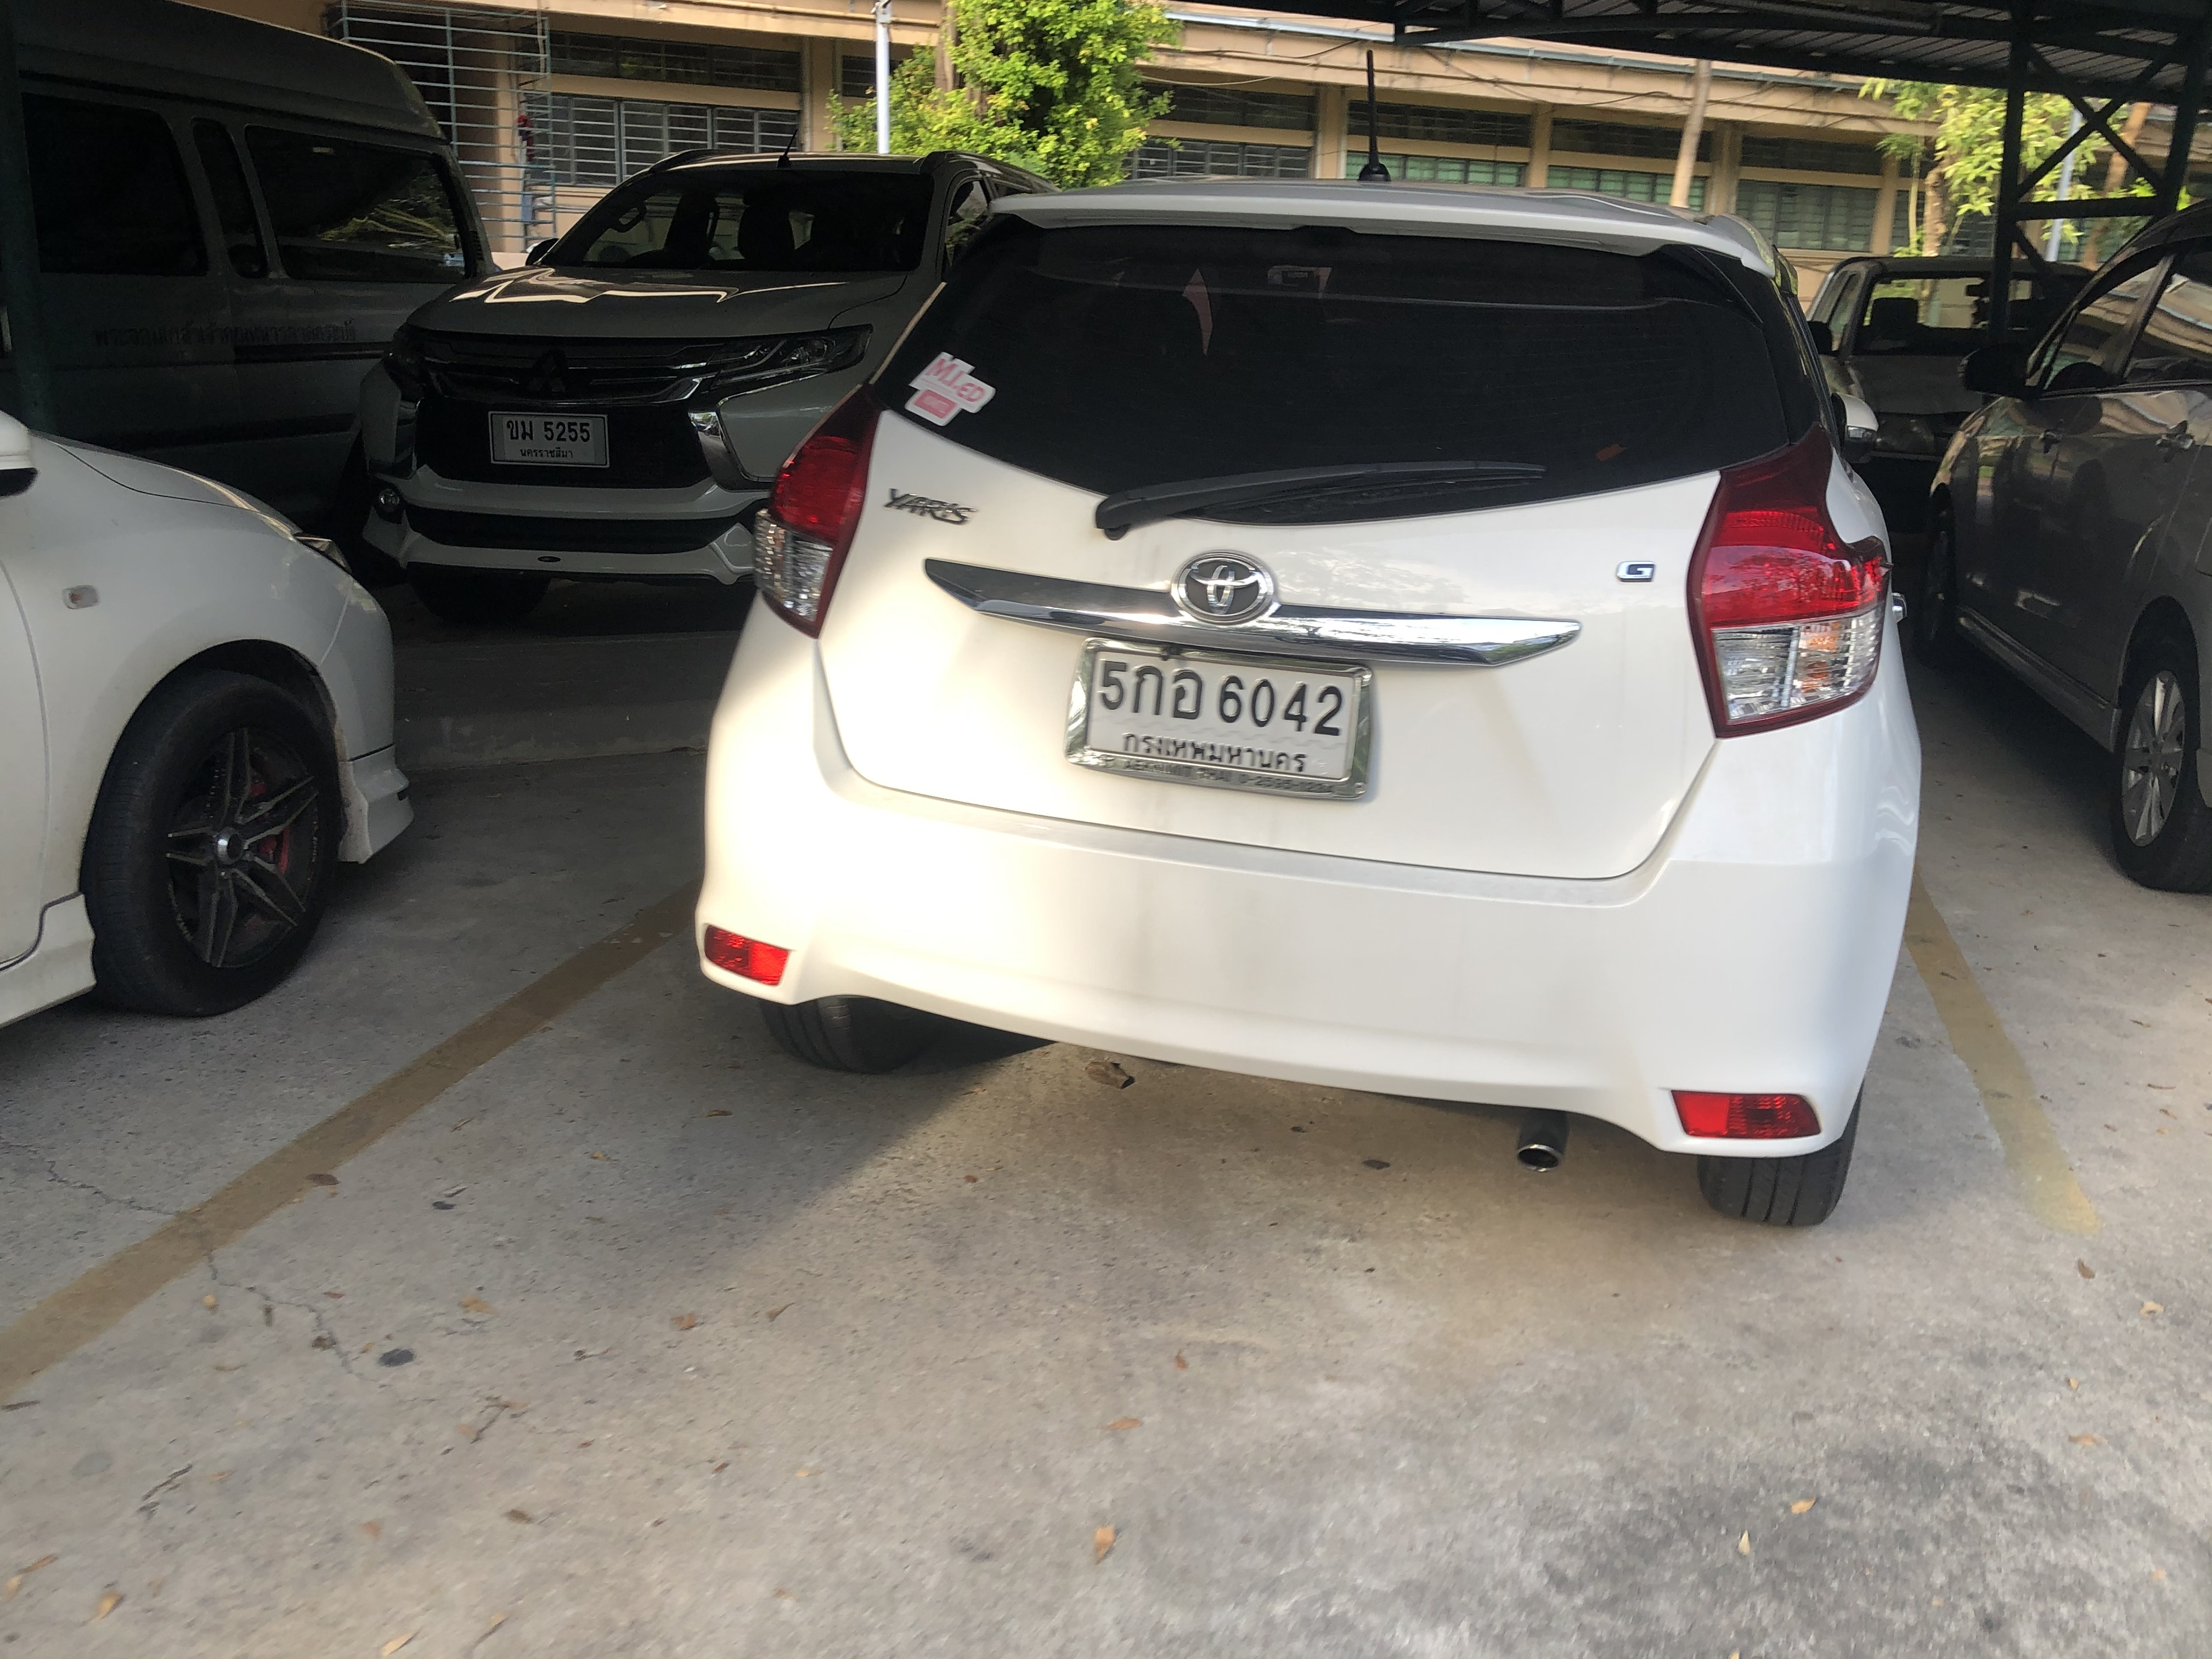in: (1090, 645, 1357, 784)
out: (1062, 634, 1386, 805)
